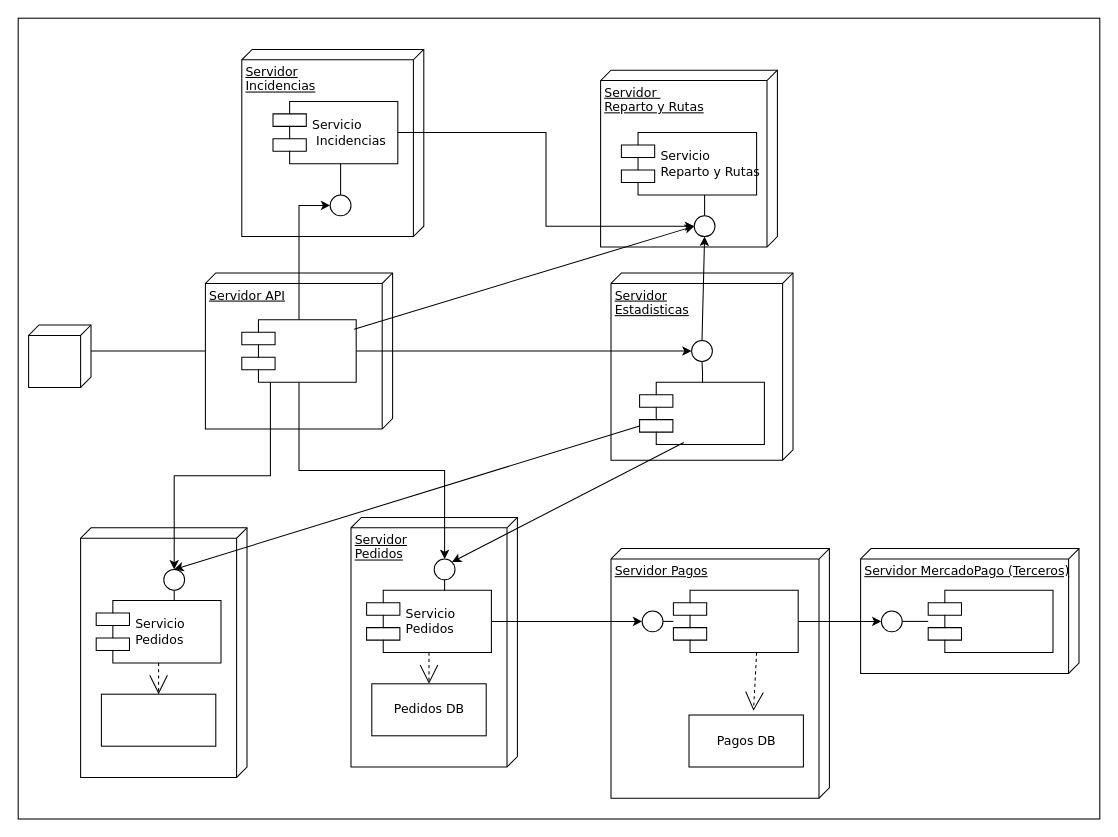
This 1118x837 diagram has some shape labels left out. The box of each missing label's shape, as (x1, y1, x2, y2) in pixels:
Cliente: (28, 324, 91, 387)
Clientes DB: (100, 693, 216, 746)
Servicio API Gateway: (241, 319, 356, 382)
Servicio Estadisticas: (639, 381, 764, 445)
Servicio Pagos: (672, 589, 798, 653)
Servicio Pagos MercadoPago: (927, 589, 1053, 653)
Servidor Clientes: (80, 527, 247, 777)
